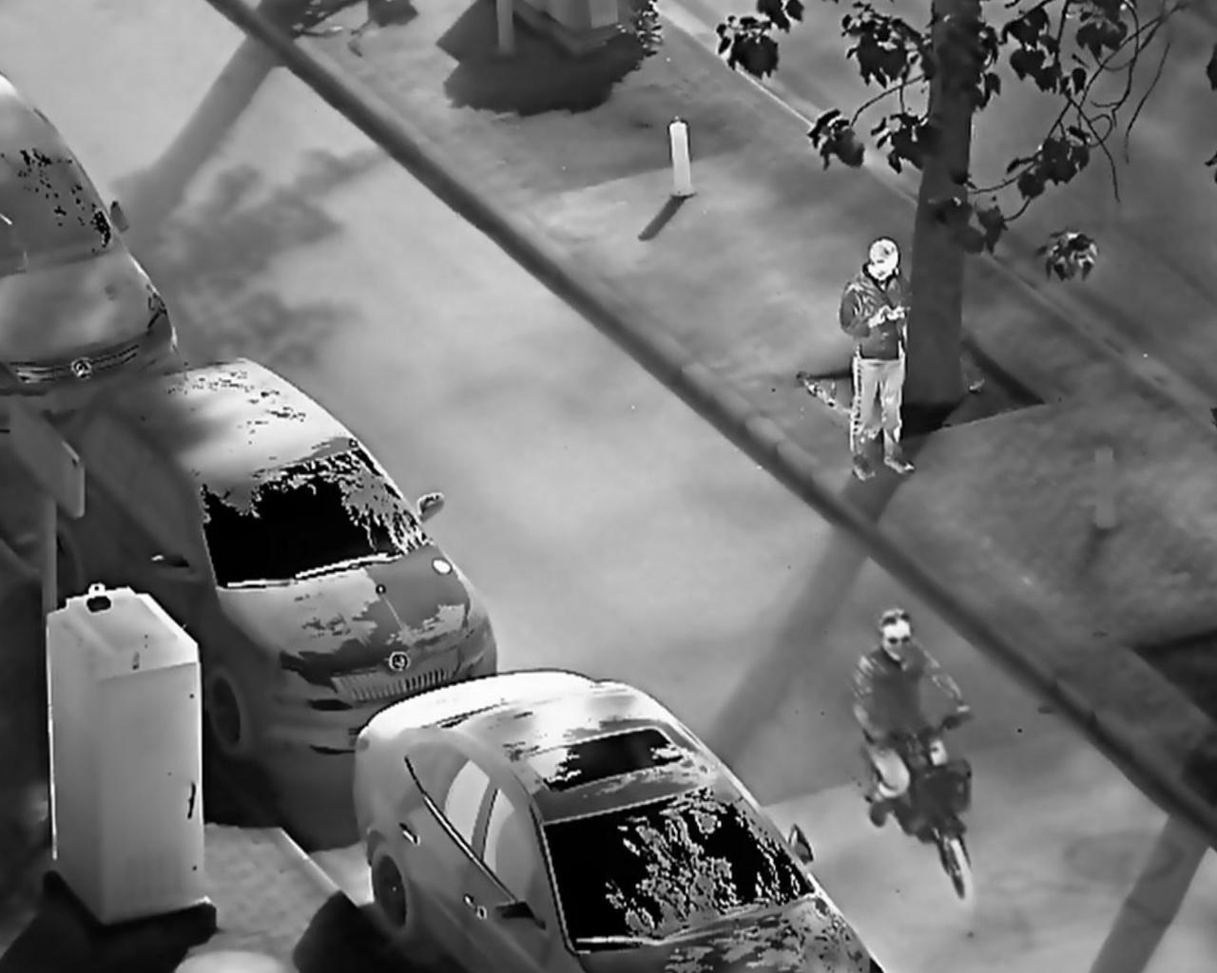person: (853, 604, 961, 832), (836, 235, 926, 482)
